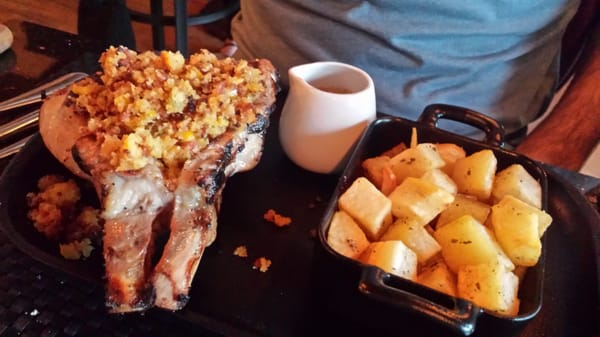salad: (399, 103, 600, 236)
sushi: (317, 113, 559, 323)
